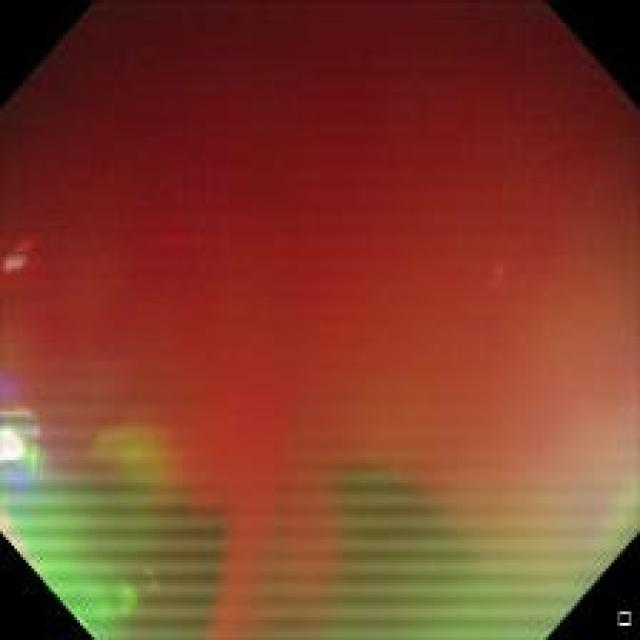color misalignment: (6, 12, 636, 619), (6, 410, 239, 628), (308, 452, 565, 634), (86, 405, 200, 506), (4, 406, 55, 506), (5, 224, 52, 291)
instrument: (219, 441, 358, 636)
